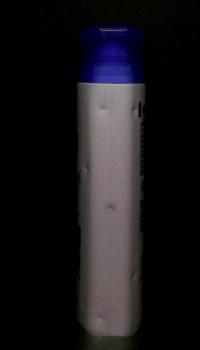dent_marginal: (89, 98, 115, 124), (92, 306, 118, 332), (99, 196, 121, 224), (121, 98, 141, 128), (82, 154, 98, 186), (123, 261, 140, 289)
